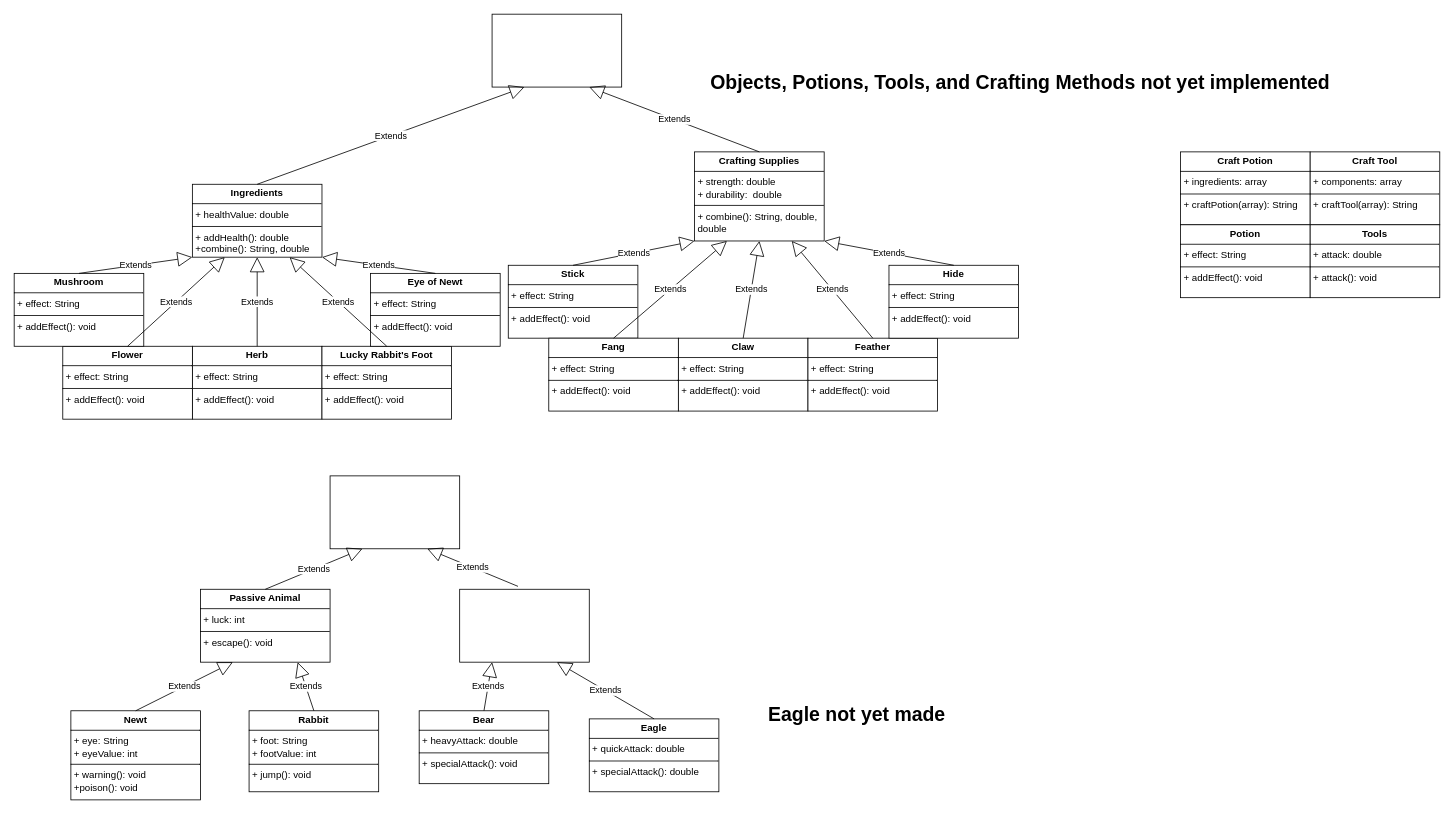
Some shapes in this 1454 by 814 pixel diagram are drawn without their labels. The shapes that lost their labels are listed below. From the top down, each one's box as (x1, y1, x2, y2) in pixels, then its label:
(491, 13, 622, 87): Objects + name: String + value: int + description(): String
(329, 475, 460, 549): Animal + name: String + health: double + description(): String
(459, 588, 589, 662): Aggressive Animal + attack: double + attack(): void
